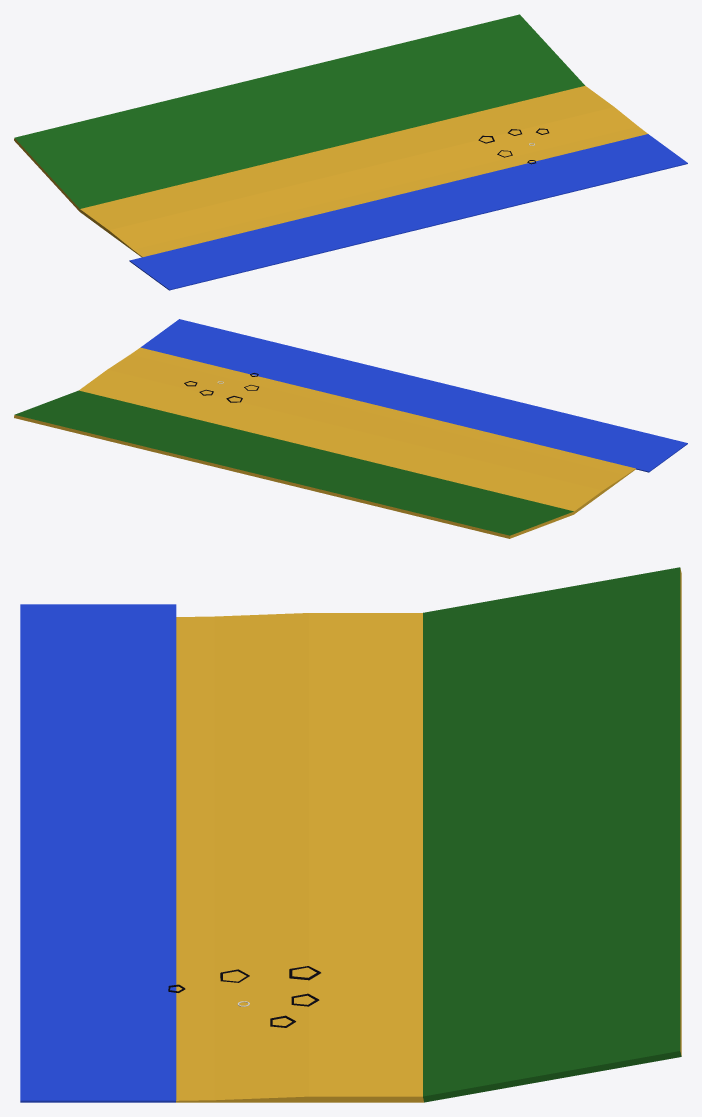
The model's file is Beach_island.fbx.
3 renders of one model, top to bottom at view 1: azimuth 30°, elevation 25°; view 2: azimuth 150°, elevation 25°; view 3: azimuth 270°, elevation 25°, orthographic. The views are drawn at different scales.
Visible parts, largest first — view 1: BeachBase, WAter; view 2: BeachBase, WAter; view 3: BeachBase, WAter.
Part boxes in pixels (<box>): BeachBase: <box>14,14,647,257</box>; WAter: <box>129,134,687,290</box>; BeachBase: <box>14,347,635,538</box>; WAter: <box>140,319,687,472</box>; BeachBase: <box>176,567,681,1102</box>; WAter: <box>20,604,176,1102</box>.
Size of the model in its own units: 56596 by 2987 by 31854.
